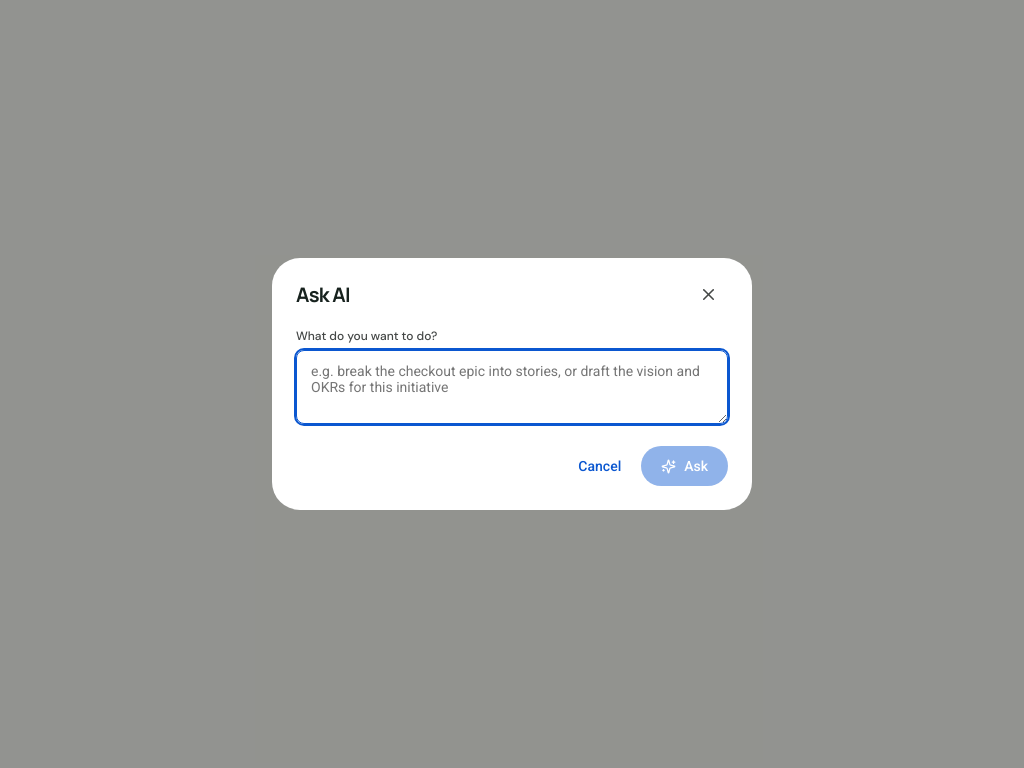
AskAiDialog › shows a hint instead of navigation when no action matches
Replace the text in the text box with placeholder "break the checkout epic" with "do something vague" at (512, 387), box x1=296 y1=350 x2=728 y2=424
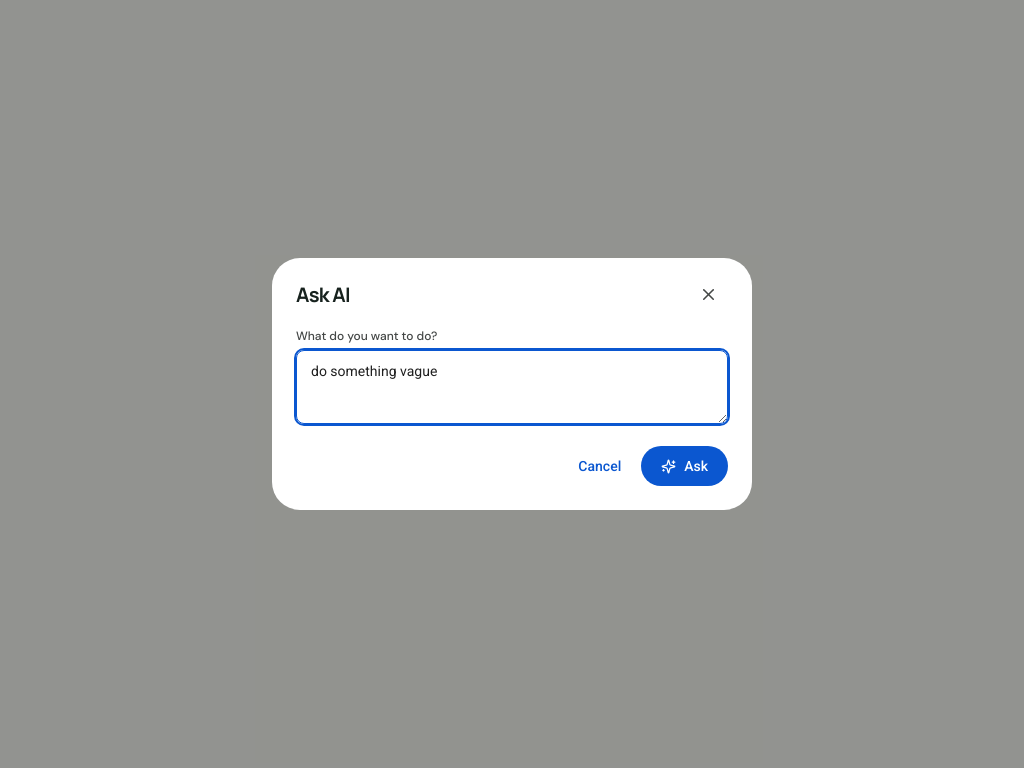
Click the button "Ask".
click(685, 466)  # box x1=641 y1=446 x2=728 y2=486
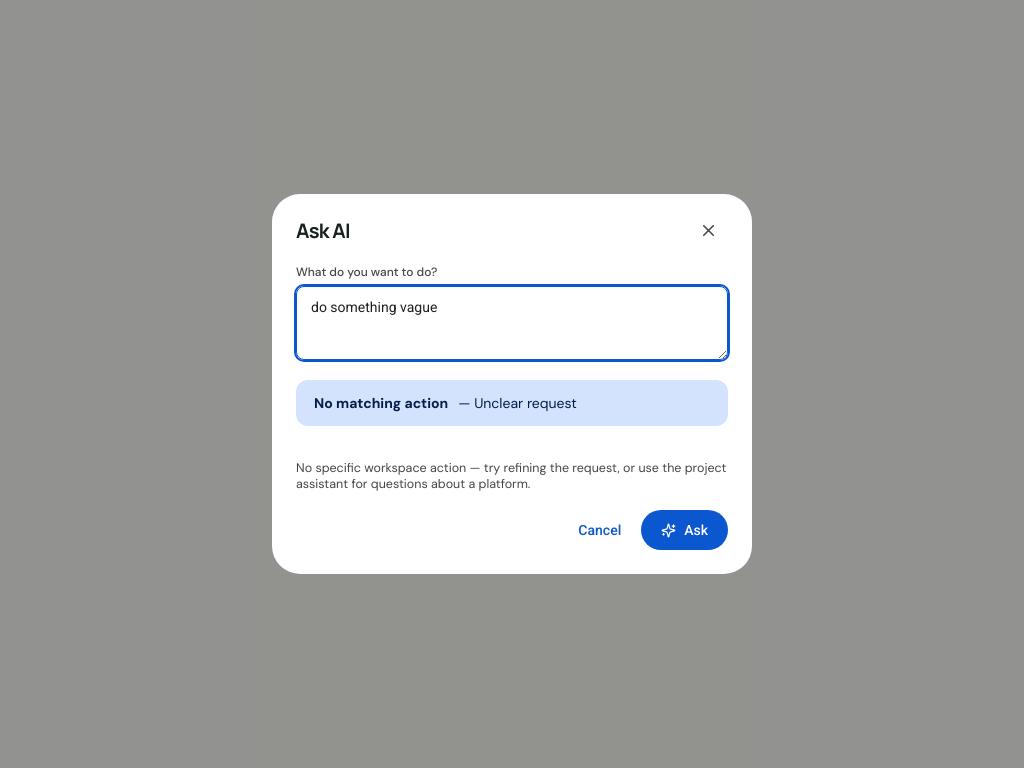
Expected: the text "No matching action — Unclear request" is shown, x1=296 y1=380 x2=728 y2=426
Expected: the text "No specific workspace action" is shown, x1=296 y1=460 x2=726 y2=492
